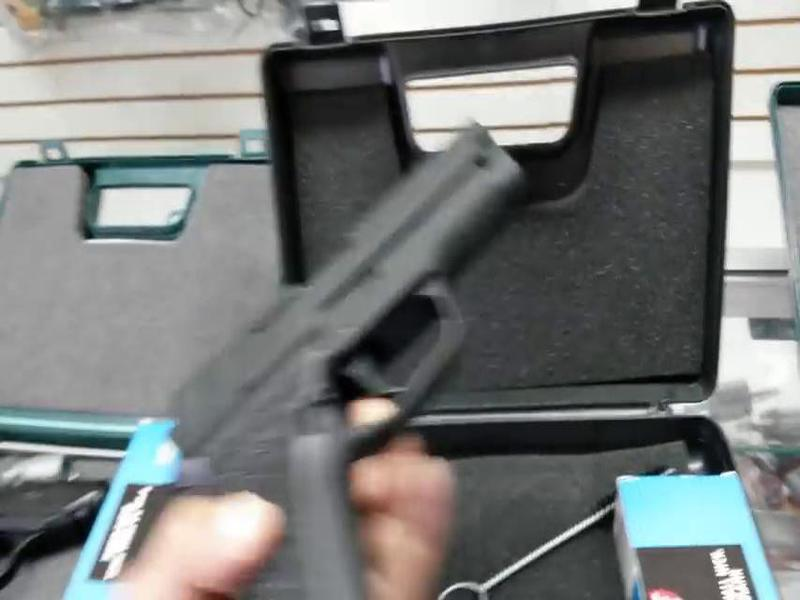Pistola: (150, 117, 537, 598)
